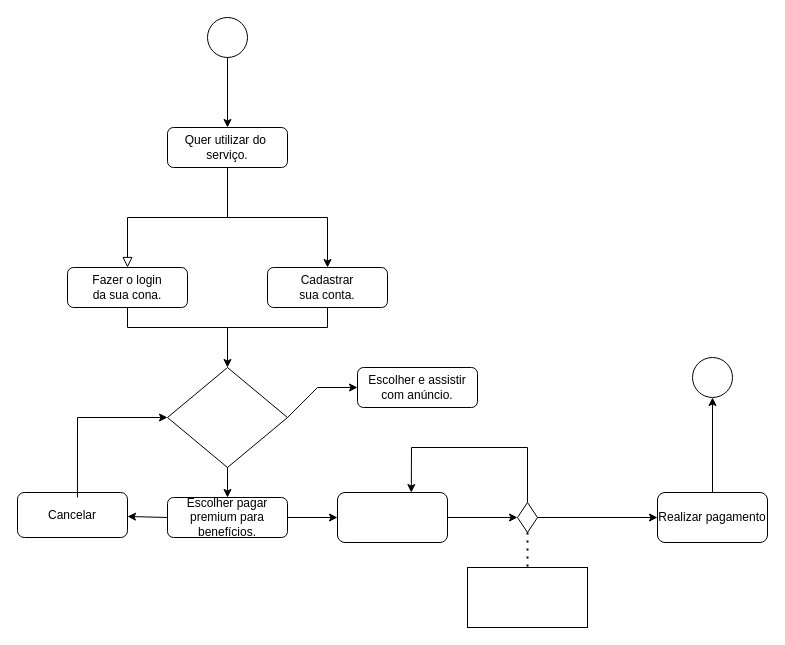
Image size: 785x645. Some labels were removed from this diagram. The centre of each missing label's shape, as x and y in pixels:
"Escolher o tipo de premium" goes at point (392, 517).
"Realizar compra ou procurar mais itens" goes at point (527, 597).
"Ver opçôes de streamers" goes at point (227, 417).
